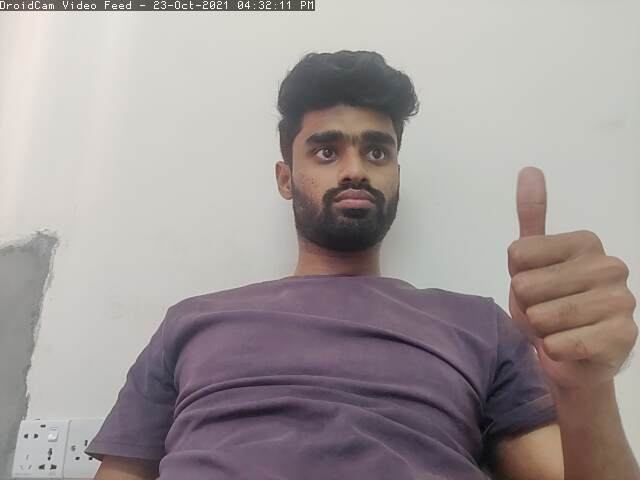ThumbsUp: (494, 161, 639, 382)
